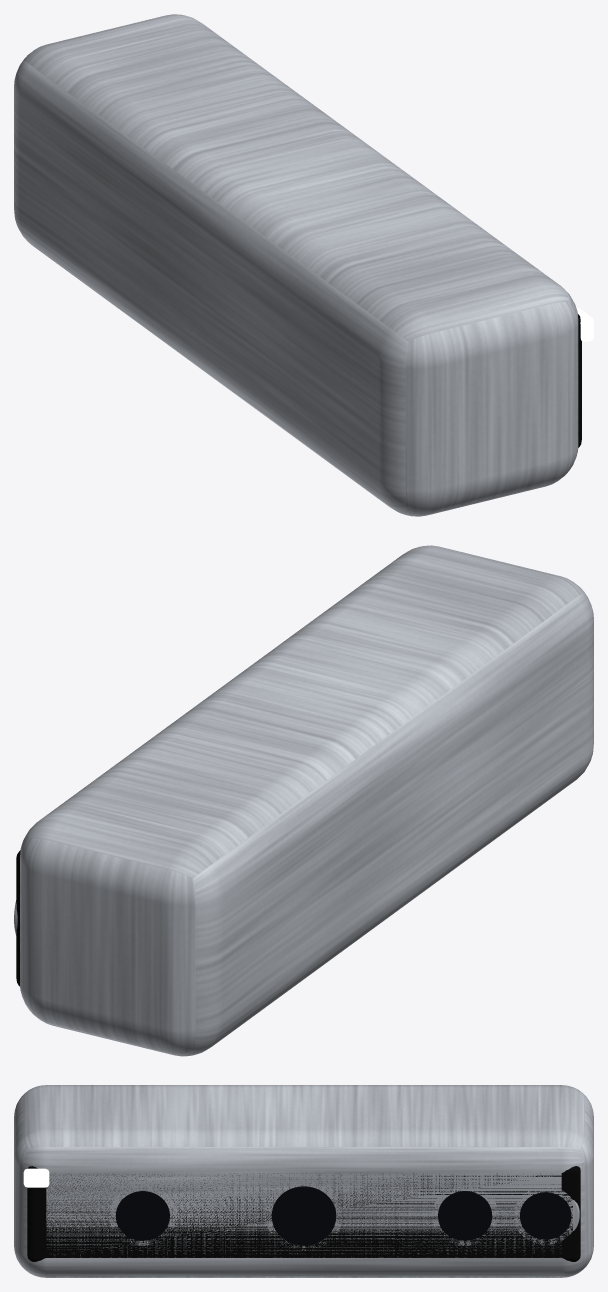
The model's file is depth_camera.dae.
The picture shows the model from 3 angles, top to bottom: view 1: azimuth 30°, elevation 25°; view 2: azimuth 150°, elevation 25°; view 3: azimuth 270°, elevation 25°; orthographic projection. The views are drawn at different scales.
Visible parts, largest first — view 1: depth_camera; view 2: depth_camera; view 3: depth_camera.
Part boxes in pixels (box(x1,y1,x2,y2)): depth_camera: box(14, 14, 593, 516); depth_camera: box(14, 545, 593, 1056); depth_camera: box(14, 1085, 593, 1277).
Bounding box in the file's own units: 0.026 × 0.09 × 0.025.
Materials: 4 (1 with a texture image).
